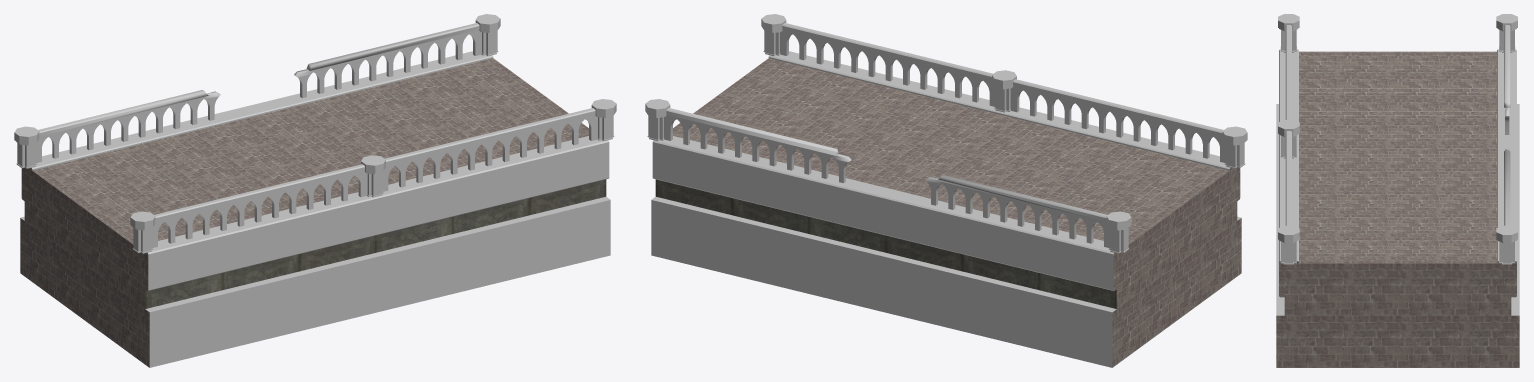
The model's file is BridgePiece.fbx.
3 renders of one model, left to right at view 1: azimuth 30°, elevation 25°; view 2: azimuth 150°, elevation 25°; view 3: azimuth 270°, elevation 25°, orthographic. The views are drawn at different scales.
Visible parts, largest first — view 1: main, sides, sideBroken; view 2: main, sides, sideBroken; view 3: main, sides, sideBroken.
Boxes of the visible parts, x1=… form: main: x1=20, y1=51, x2=610, y2=367; sides: x1=130, y1=99, x2=616, y2=253; sideBroken: x1=14, y1=14, x2=500, y2=168; main: x1=651, y1=51, x2=1241, y2=367; sides: x1=761, y1=14, x2=1247, y2=168; sideBroken: x1=645, y1=99, x2=1131, y2=253; main: x1=1276, y1=49, x2=1519, y2=367; sides: x1=1278, y1=14, x2=1299, y2=264; sideBroken: x1=1496, y1=14, x2=1517, y2=264.
Bounding box in the file's own units: 1670 × 485 × 777.
